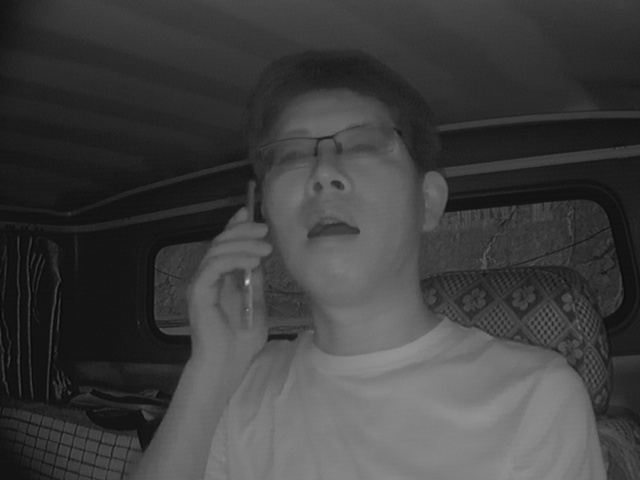hand: (184, 203, 275, 363)
